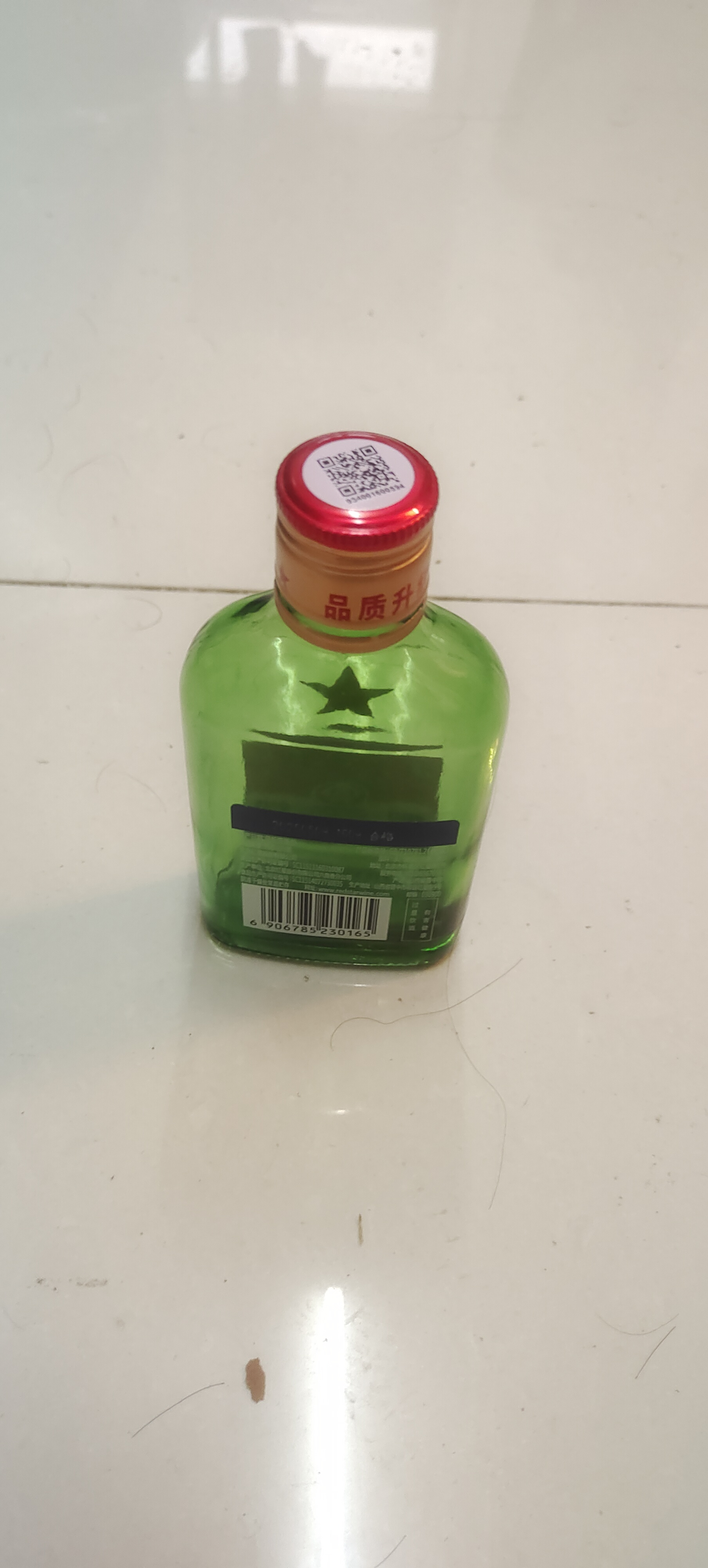redbull: (127, 416, 562, 1015)
